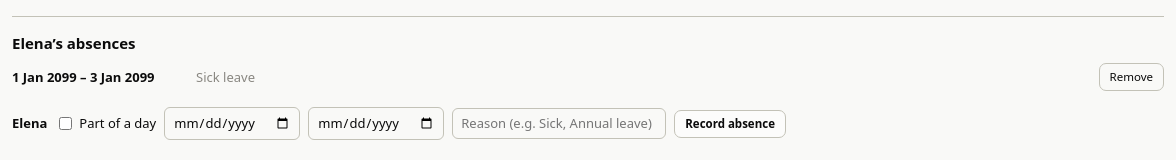
OperatorAbsences — recording and removing in place (R-360) › a stale Remove that the server still refuses is worded for this screen, not the cell one
expect the text "Sick leave" is shown: met, box [196, 68, 255, 86]
Click the button "Remove". click: (1131, 77)
box: [1098, 63, 1164, 92]
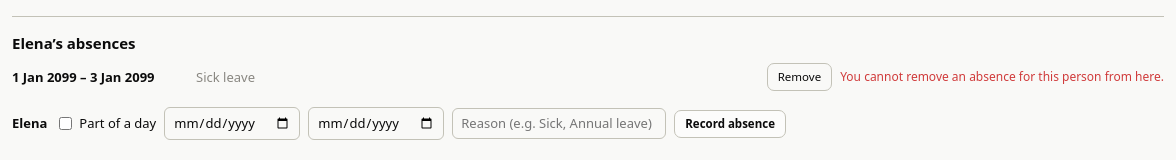
expect the text "You cannot remove an absence for this person from here." is shown: met, box [840, 68, 1164, 86]
